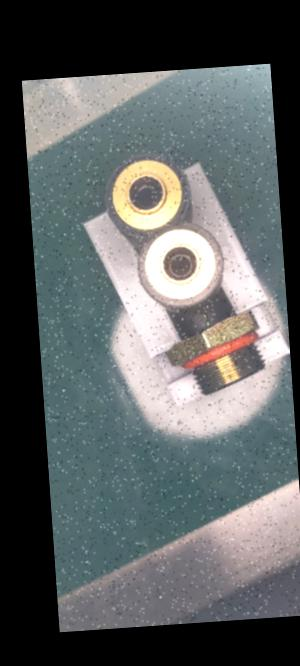craze: (202, 307, 211, 331)
